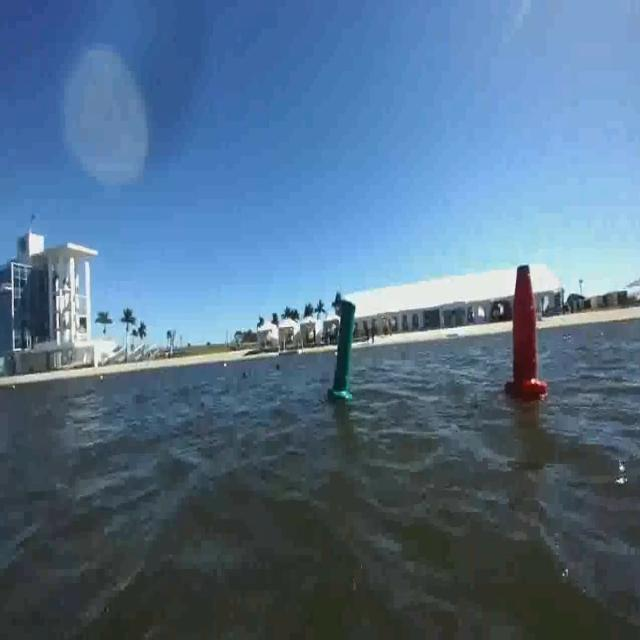green-column-buoy: (330, 298, 358, 402)
red-column-buoy: (508, 264, 549, 402)
